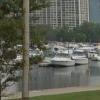Boat: (46, 47, 88, 67)
